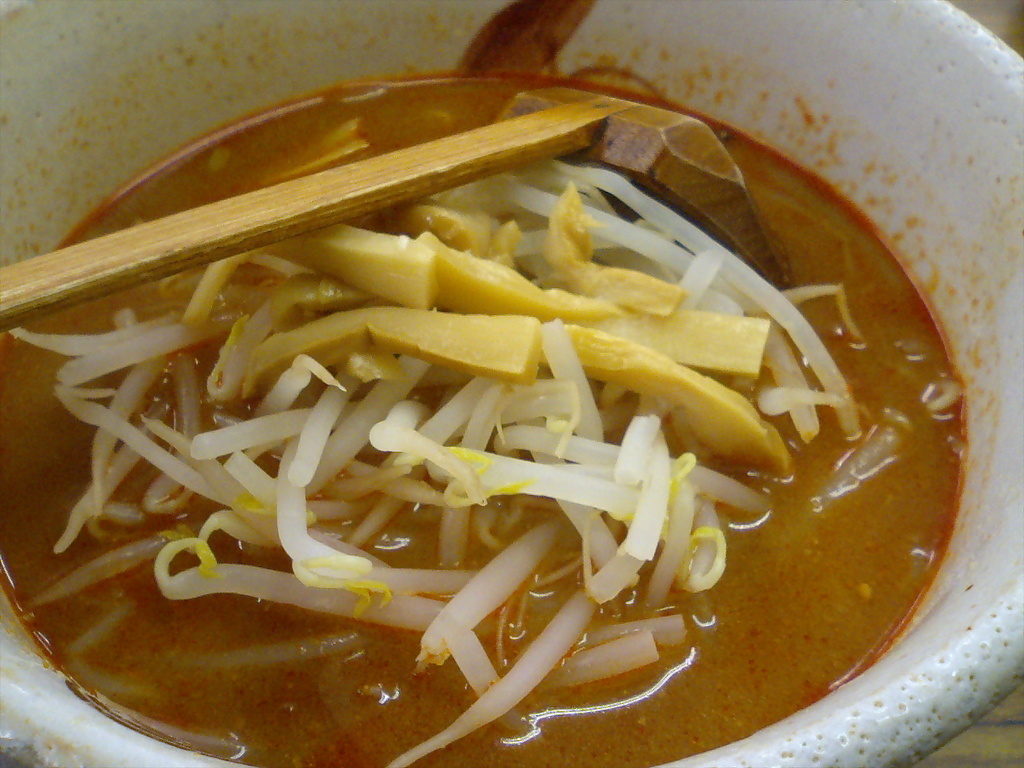French fries: (0, 131, 901, 767), (539, 325, 795, 485), (231, 295, 551, 417), (239, 219, 441, 327), (545, 185, 679, 324), (399, 239, 565, 327), (597, 312, 771, 383), (177, 245, 249, 324), (533, 285, 627, 323)
